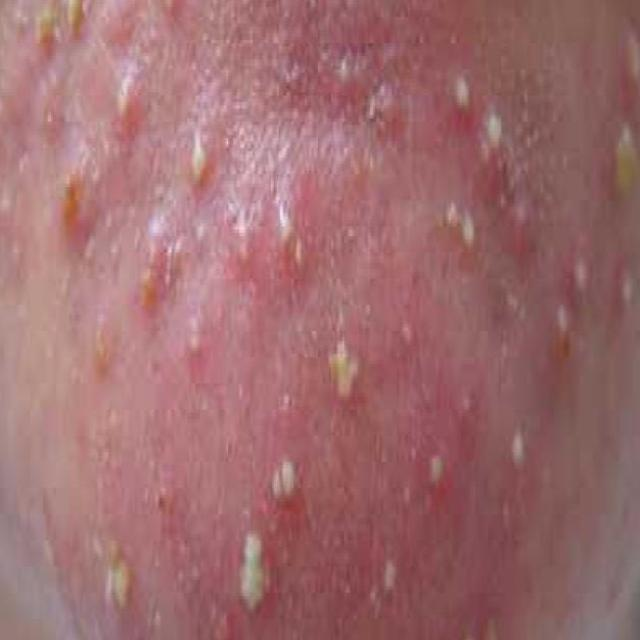pustule: (212, 313, 547, 640), (37, 44, 343, 363), (420, 70, 640, 386), (592, 15, 640, 219), (80, 524, 148, 617)
